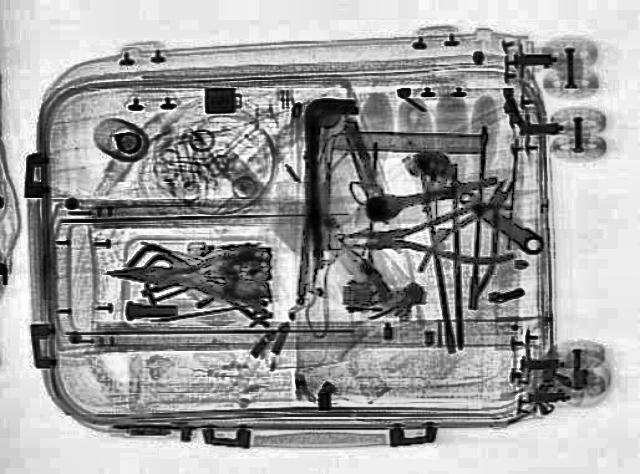Pliers: (343, 202, 515, 268), (104, 248, 270, 298)
